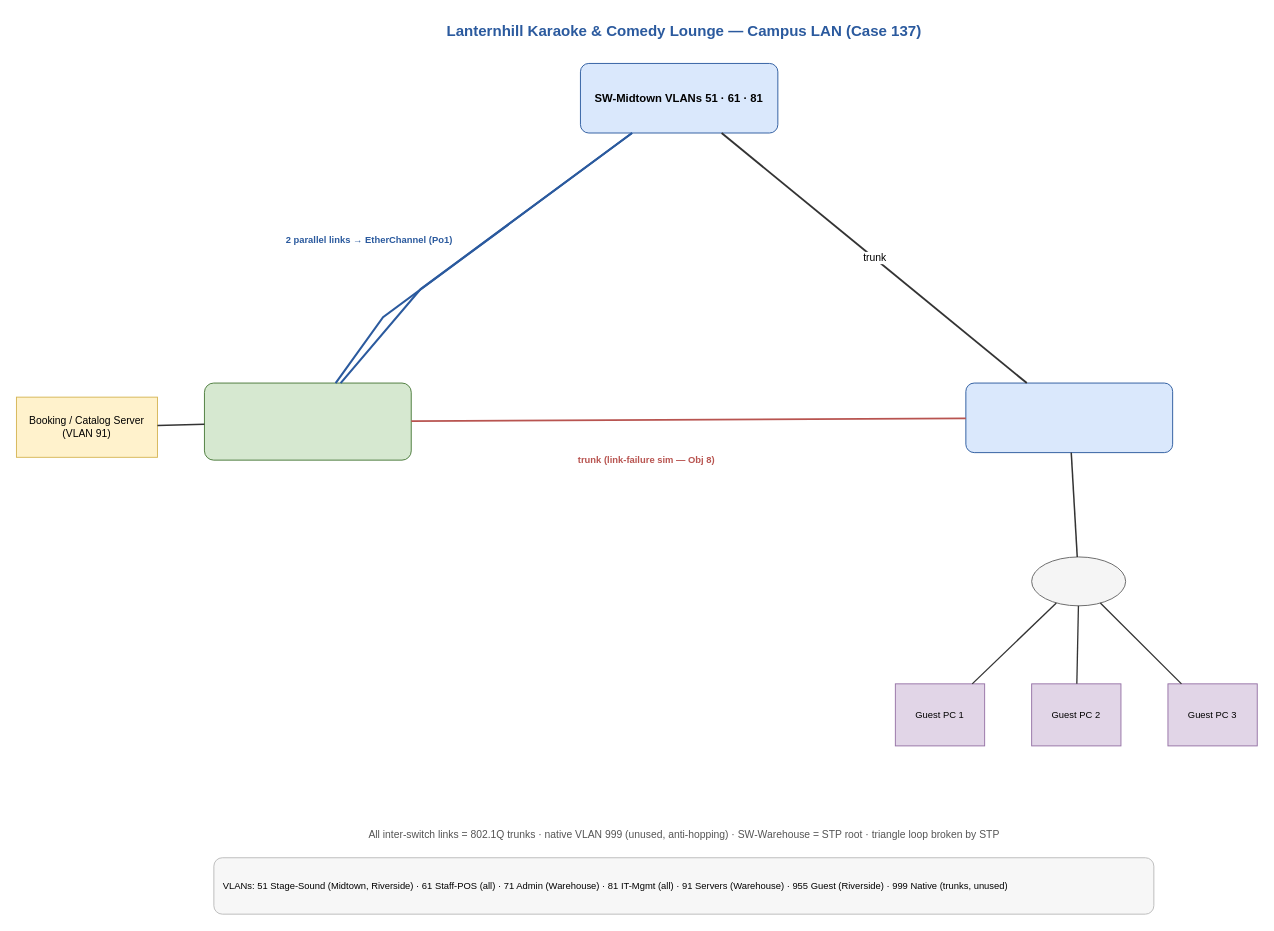
This 1274x931 diagram has some shape labels left out. Here are the shapes that lost their labels. From the top down, the centre of each, then its label:
At pixel 307 421: "SW-Warehouse (L3) HQ · STP ROOT VLANs 61 · 71 · 81 · 91".
At pixel 1069 417: "SW-Riverside VLANs 51 · 61 · 81 · 955".
At pixel 1078 581: "Hub".
